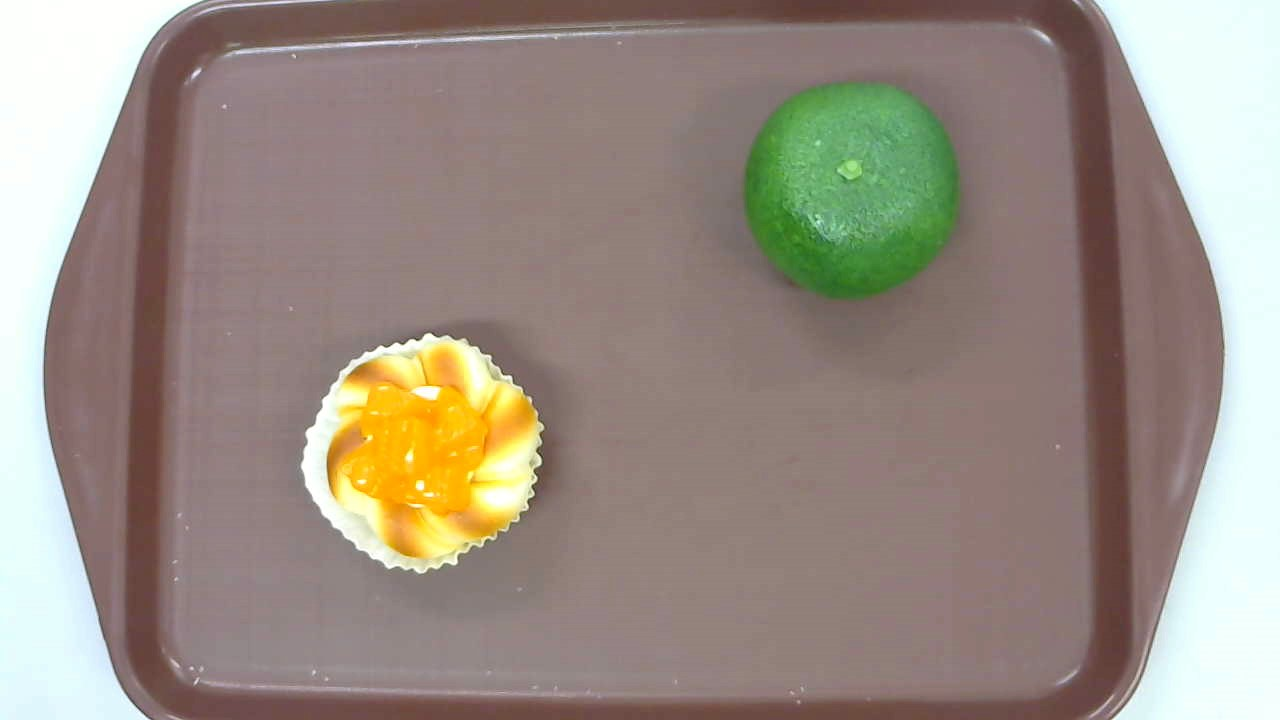green orange: (744, 79, 962, 300)
mango tart: (301, 333, 545, 574)
